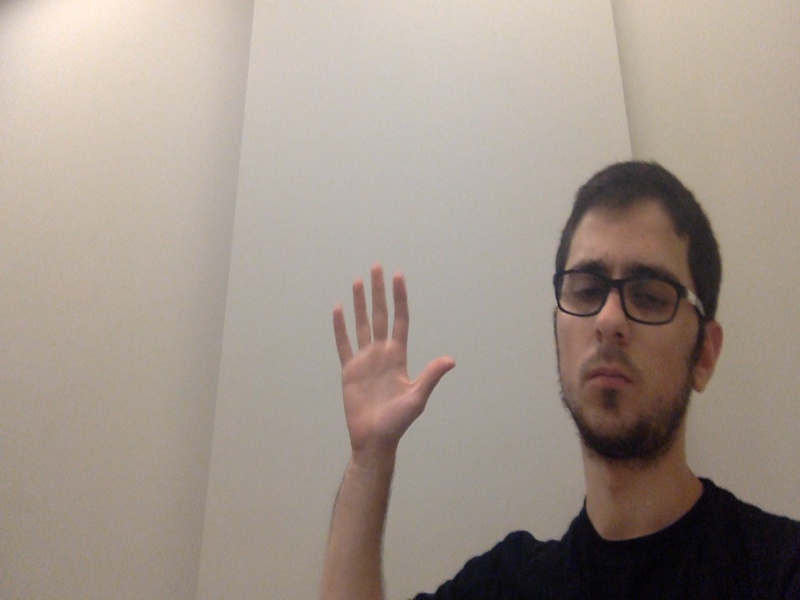5-hand: (329, 262, 457, 455)
